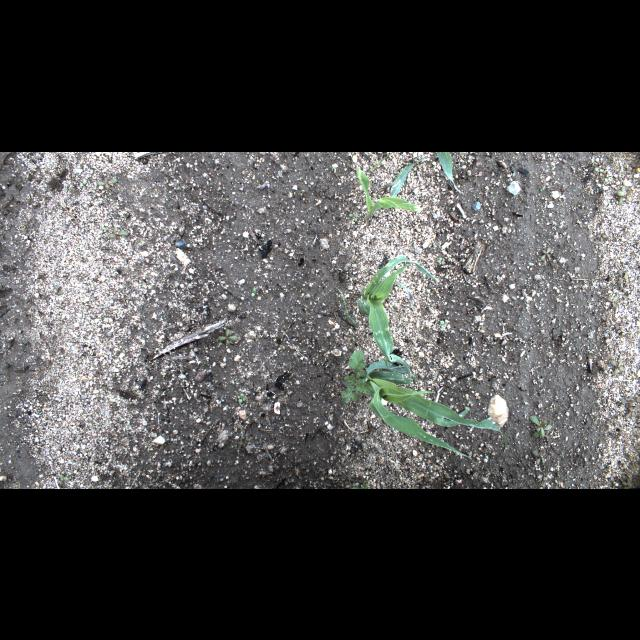crop: (363, 360, 507, 460), (357, 255, 439, 383), (356, 165, 422, 219), (390, 157, 428, 199), (436, 151, 464, 193)
weed: (341, 349, 375, 403), (372, 164, 408, 206), (328, 282, 358, 326), (370, 151, 394, 171), (530, 414, 546, 438), (218, 328, 238, 346), (612, 184, 630, 203), (531, 424, 551, 438), (96, 176, 118, 188), (532, 448, 546, 464), (610, 358, 624, 374), (108, 229, 128, 239), (626, 405, 638, 419), (616, 270, 628, 284), (541, 246, 551, 260), (624, 400, 634, 414), (614, 321, 626, 332), (359, 286, 367, 300), (621, 478, 631, 488), (607, 296, 617, 306), (621, 396, 635, 402), (238, 392, 246, 402), (348, 212, 358, 220), (601, 316, 609, 326), (292, 347, 300, 355), (59, 475, 69, 481), (241, 436, 251, 442), (296, 188, 306, 194), (594, 166, 604, 172), (80, 180, 88, 186), (594, 196, 602, 202), (437, 256, 443, 264), (361, 482, 367, 488), (252, 287, 256, 295), (258, 438, 262, 444), (352, 484, 358, 488), (535, 156, 541, 160), (597, 234, 607, 236), (102, 225, 106, 229), (298, 316, 302, 320), (330, 165, 334, 169), (549, 408, 553, 412), (540, 187, 544, 191)
